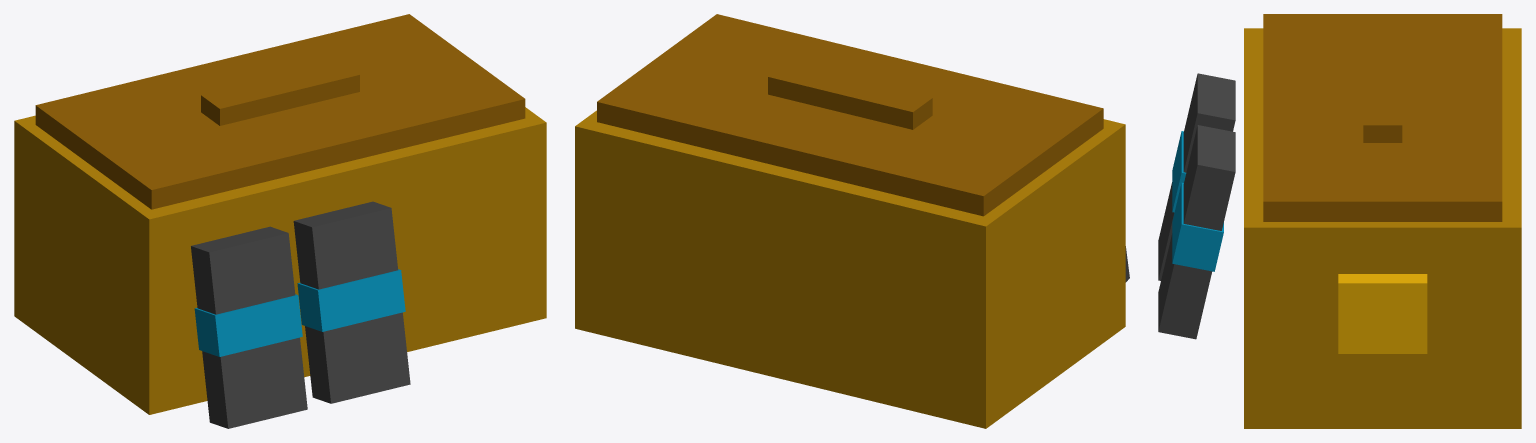
Rendered from ce_ammo_rifle_inc_c.obj.
3 views of the same model, side by side, from view 1: azimuth 30°, elevation 25°; view 2: azimuth 150°, elevation 25°; view 3: azimuth 270°, elevation 25° (orthographic). The views are drawn at different scales.
Parts seen in each view (by area): view 1: ce_ammo_rifle_inc_c_0, ce_ammo_rifle_inc_c_1, ce_ammo_rifle_inc_c_4, ce_ammo_rifle_inc_c_6, ce_ammo_rifle_inc_c_2, ce_ammo_rifle_inc_c_7, ce_ammo_rifle_inc_c_5; view 2: ce_ammo_rifle_inc_c_0, ce_ammo_rifle_inc_c_1, ce_ammo_rifle_inc_c_2; view 3: ce_ammo_rifle_inc_c_0, ce_ammo_rifle_inc_c_1, ce_ammo_rifle_inc_c_6, ce_ammo_rifle_inc_c_3, ce_ammo_rifle_inc_c_4, ce_ammo_rifle_inc_c_2, ce_ammo_rifle_inc_c_7, ce_ammo_rifle_inc_c_5.
Boxes of the visible parts, left/top/right/bottom form: ce_ammo_rifle_inc_c_0: left=14, top=107, right=546, bottom=414; ce_ammo_rifle_inc_c_1: left=35, top=14, right=525, bottom=209; ce_ammo_rifle_inc_c_4: left=191, top=226, right=307, bottom=428; ce_ammo_rifle_inc_c_6: left=293, top=201, right=410, bottom=403; ce_ammo_rifle_inc_c_2: left=201, top=61, right=359, bottom=125; ce_ammo_rifle_inc_c_7: left=297, top=269, right=405, bottom=331; ce_ammo_rifle_inc_c_5: left=194, top=294, right=302, bottom=356; ce_ammo_rifle_inc_c_0: left=575, top=110, right=1125, bottom=428; ce_ammo_rifle_inc_c_1: left=597, top=14, right=1103, bottom=216; ce_ammo_rifle_inc_c_2: left=768, top=62, right=932, bottom=129; ce_ammo_rifle_inc_c_0: left=1244, top=28, right=1521, bottom=428; ce_ammo_rifle_inc_c_1: left=1263, top=14, right=1502, bottom=221; ce_ammo_rifle_inc_c_6: left=1158, top=125, right=1235, bottom=339; ce_ammo_rifle_inc_c_3: left=1338, top=274, right=1427, bottom=353; ce_ammo_rifle_inc_c_4: left=1158, top=73, right=1235, bottom=280; ce_ammo_rifle_inc_c_2: left=1363, top=55, right=1402, bottom=142; ce_ammo_rifle_inc_c_7: left=1172, top=182, right=1223, bottom=271; ce_ammo_rifle_inc_c_5: left=1172, top=131, right=1186, bottom=212.
Size of the model in its own units: 0.89 by 0.475 by 0.6542.
